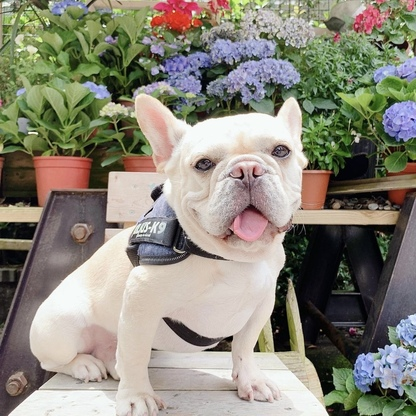bulldog: (27, 90, 311, 416)
